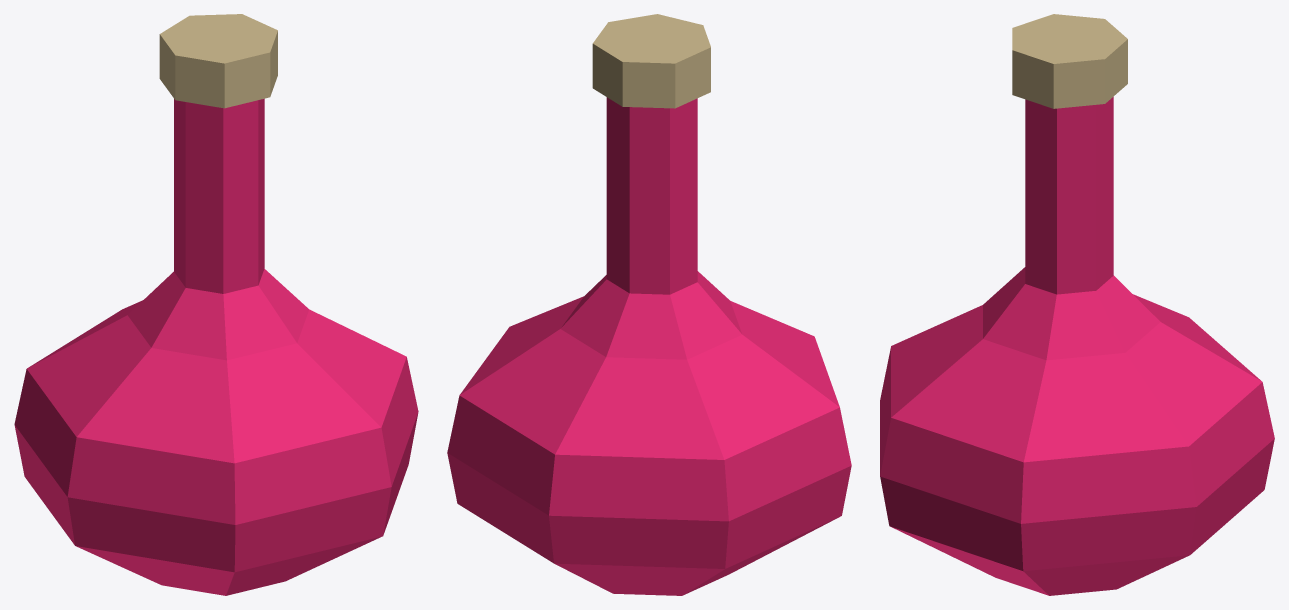
File: Potion_3.fbx
The picture shows the model from 3 angles, left to right: view 1: azimuth 30°, elevation 25°; view 2: azimuth 150°, elevation 25°; view 3: azimuth 270°, elevation 25°; orthographic projection.
Visible parts, largest first — view 1: Potion_3; view 2: Potion_3; view 3: Potion_3.
Part boxes in pixels (bbox=[...]): Potion_3: bbox=[14, 14, 418, 595]; Potion_3: bbox=[447, 14, 851, 595]; Potion_3: bbox=[880, 14, 1274, 595].
Bounding box in the file's own units: 13.29 × 18.99 × 12.96.
